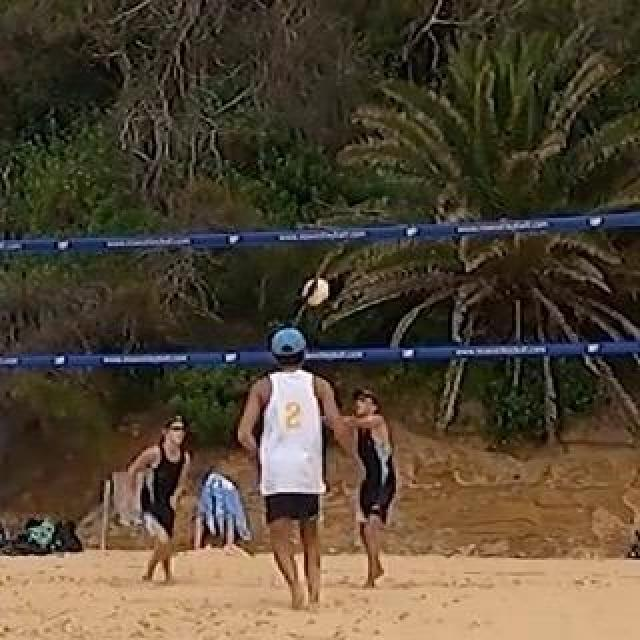volleyball: (303, 278, 329, 306)
